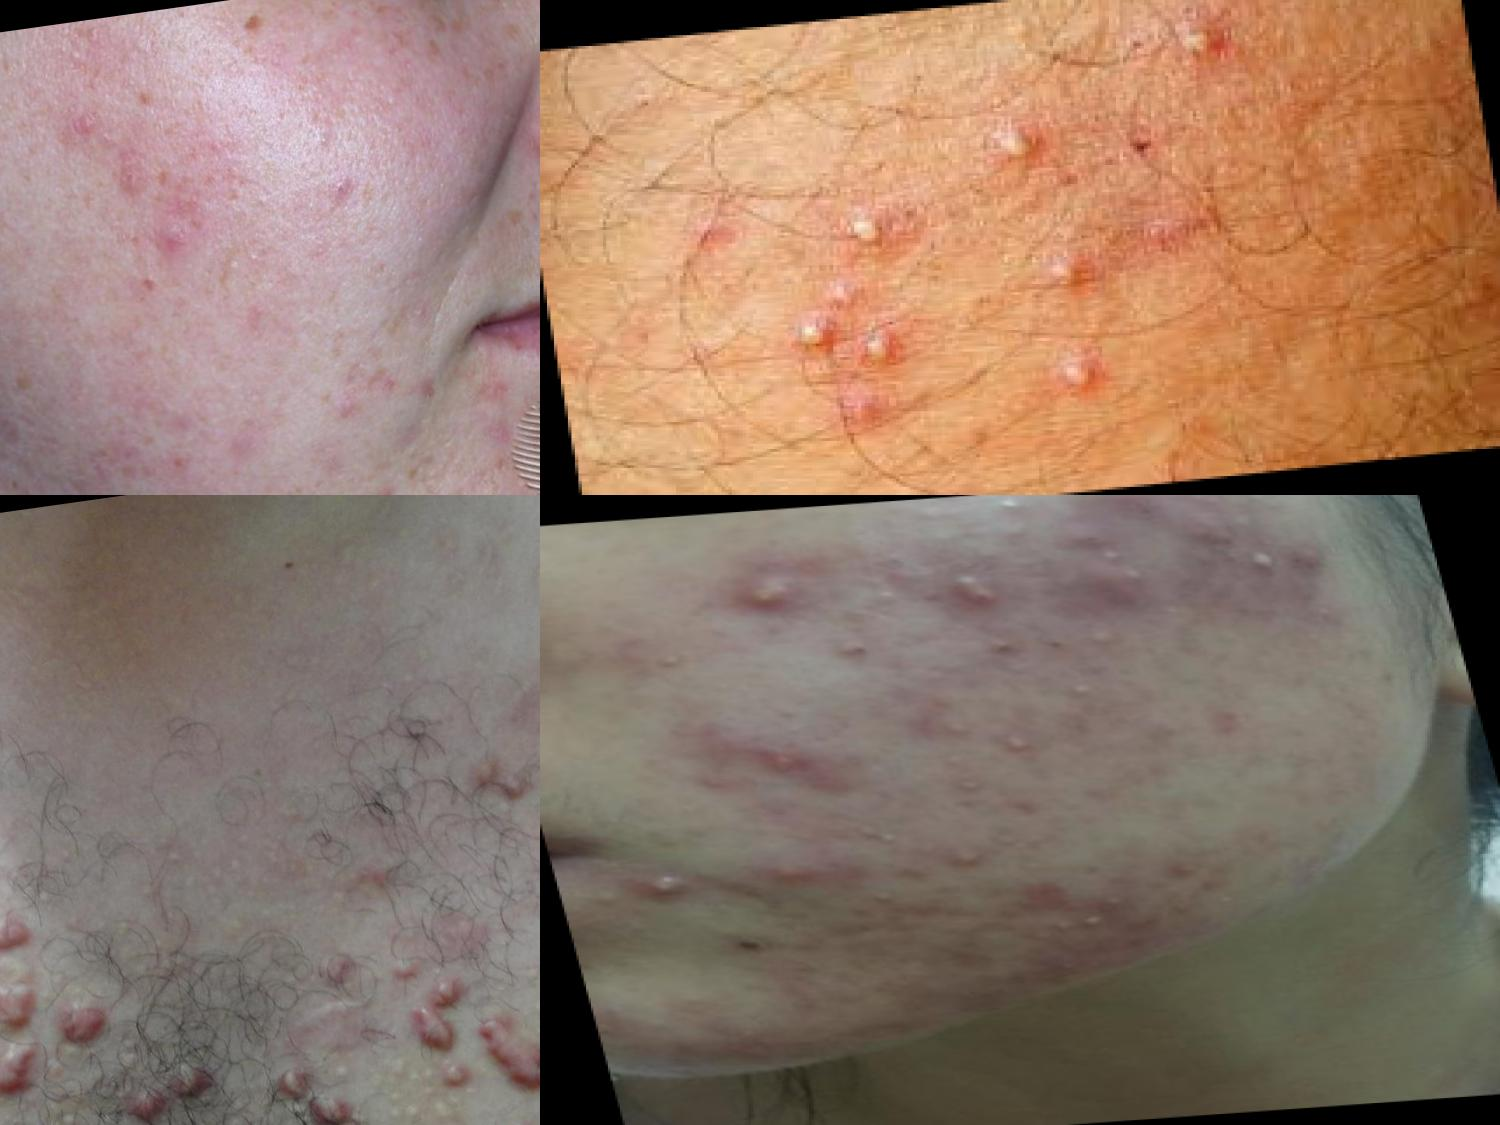cystic: (1050, 524, 1183, 610)
folliculitis: (961, 97, 1070, 189), (1033, 337, 1121, 421), (824, 197, 921, 265), (1025, 230, 1109, 305), (1150, 7, 1234, 82), (841, 316, 925, 378), (768, 308, 848, 359)
keloid: (396, 948, 488, 1062), (250, 1038, 369, 1125), (467, 999, 541, 1111), (116, 1053, 221, 1125), (50, 988, 117, 1058), (1, 1029, 53, 1108), (1, 964, 46, 1030), (1, 898, 47, 960)
papular: (824, 373, 915, 477), (131, 209, 214, 308), (905, 834, 1026, 879), (85, 148, 165, 214), (742, 850, 844, 895), (1140, 853, 1227, 897), (318, 164, 378, 214), (965, 631, 1031, 665)
purulent: (1029, 892, 1139, 944), (926, 555, 1015, 617), (971, 723, 1067, 770), (1042, 662, 1119, 718), (622, 860, 694, 913), (741, 572, 817, 620), (1213, 547, 1289, 587)
sebo-crystan-conglo: (725, 736, 839, 792)
whitehead: (632, 640, 707, 691), (839, 809, 917, 858), (849, 570, 926, 616), (976, 496, 1055, 527), (924, 772, 997, 800), (575, 886, 640, 917), (624, 1009, 676, 1043), (306, 117, 340, 160), (1, 134, 15, 191)
